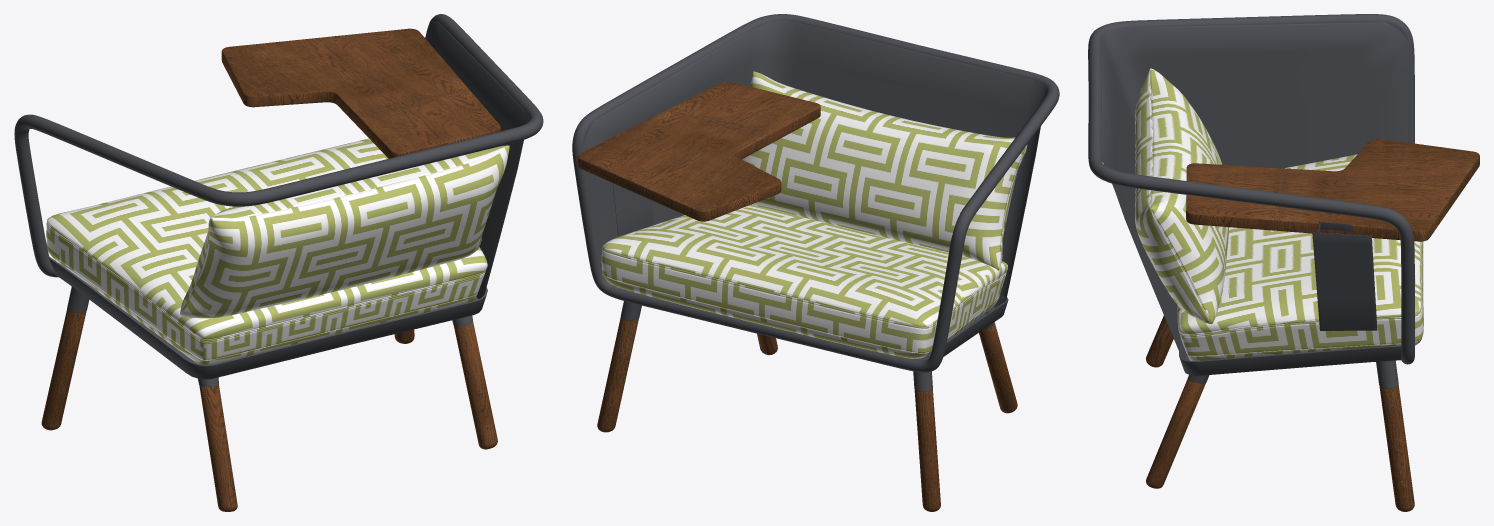
The picture shows the model from 3 angles, left to right: view 1: azimuth 30°, elevation 25°; view 2: azimuth 150°, elevation 25°; view 3: azimuth 270°, elevation 25°; orthographic projection. The views are drawn at different scales.
Visible parts, largest first — view 1: Pillow, Wood, Metal; view 2: Pillow, Metal, Wood; view 3: Metal, Pillow, Wood.
Part boxes in pixels (x1,y1,x2,y2): Pillow: (46, 138, 509, 364); Wood: (41, 28, 500, 511); Metal: (14, 14, 543, 386); Pillow: (601, 71, 1027, 358); Metal: (572, 14, 1059, 391); Wood: (577, 81, 1017, 511); Metal: (1088, 14, 1414, 388); Pillow: (1135, 68, 1423, 360); Wood: (1146, 138, 1479, 511).
Bounding box in the file's own units: 1.19 × 0.9206 × 0.9884.
3 materials, 2 textured.
